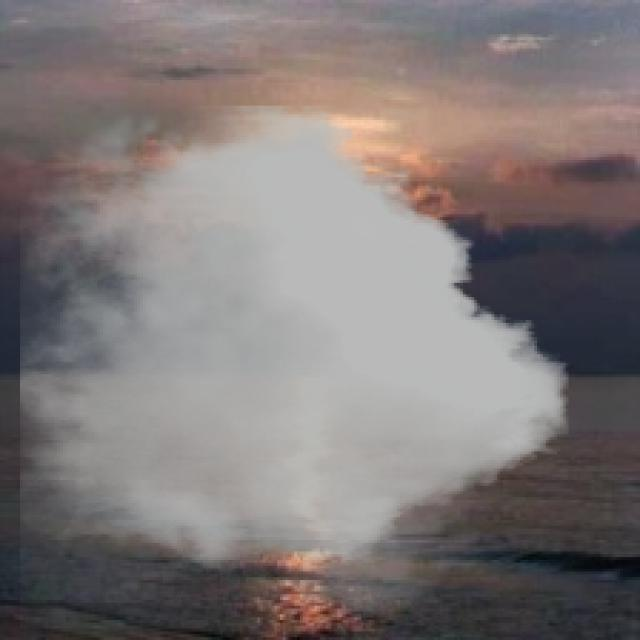Smoke: (20, 97, 569, 629)
